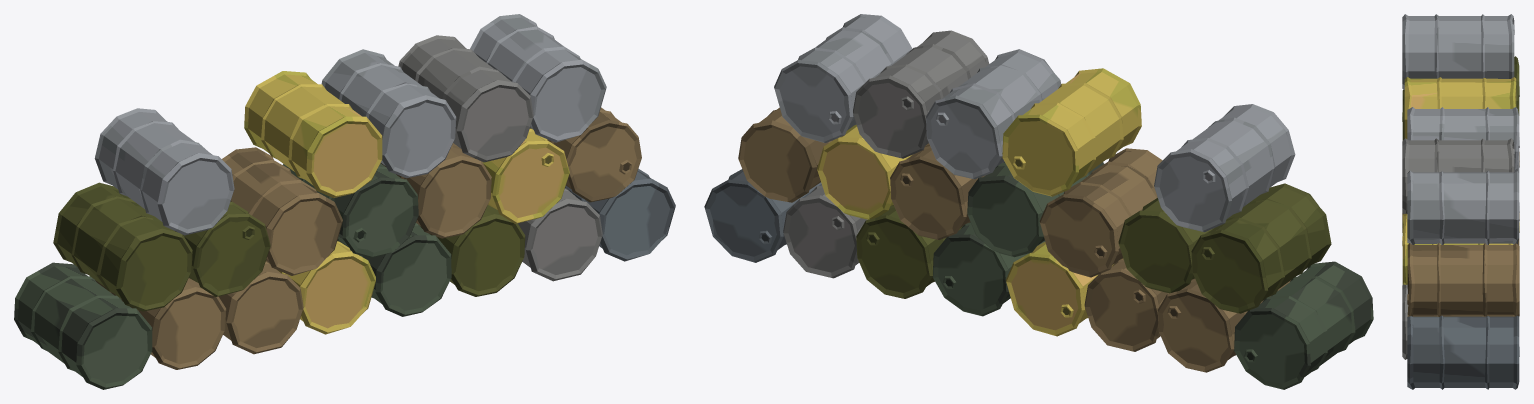
File: SM_Prop_BarrelPile_01.glb
3 views of the same model, side by side, from view 1: azimuth 30°, elevation 25°; view 2: azimuth 150°, elevation 25°; view 3: azimuth 270°, elevation 25° (orthographic). The views are drawn at different scales.
Visible parts, largest first — view 1: SM_Prop_BarrelPile_01; view 2: SM_Prop_BarrelPile_01; view 3: SM_Prop_BarrelPile_01.
Boxes of the visible parts, <box> form: SM_Prop_BarrelPile_01: <box>14,14,675,389</box>; SM_Prop_BarrelPile_01: <box>704,14,1373,389</box>; SM_Prop_BarrelPile_01: <box>1402,14,1519,389</box>.
Bounding box in the file's own units: 5.52 × 1.89 × 1.09.
Materials: 1 (1 with a texture image).
